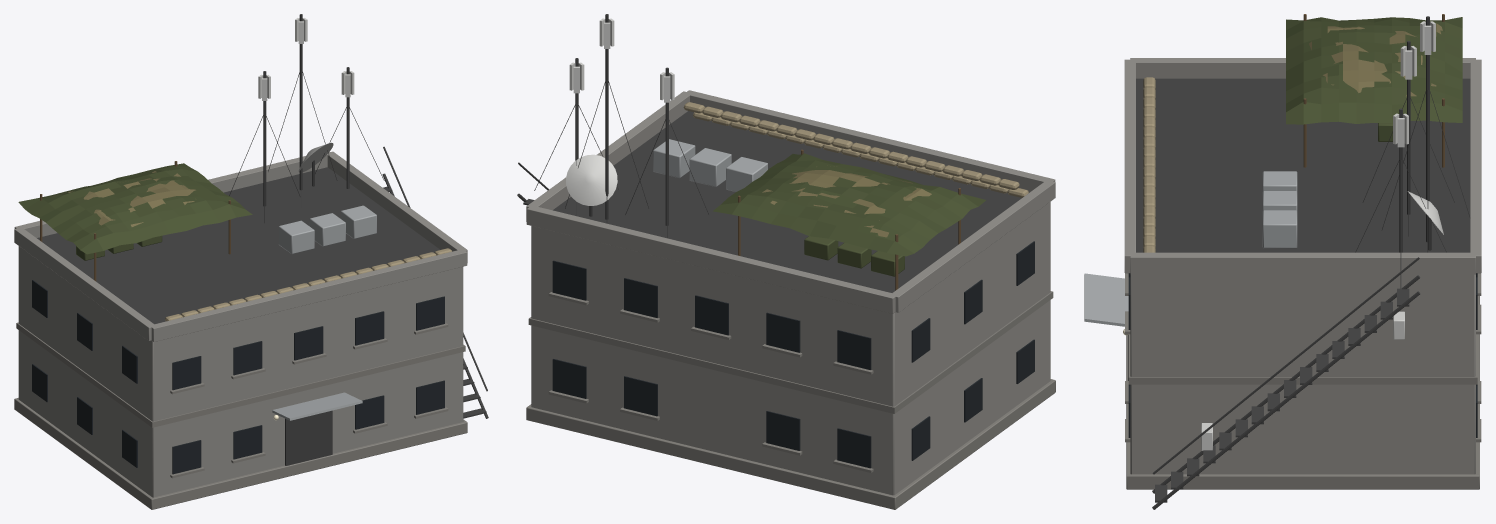
The model's file is HQ_Building.fbx.
The picture shows the model from 3 angles, left to right: view 1: azimuth 30°, elevation 25°; view 2: azimuth 150°, elevation 25°; view 3: azimuth 270°, elevation 25°; orthographic projection. The views are drawn at different scales.
Visible parts, largest first — view 1: HQ_Building_Mesh; view 2: HQ_Building_Mesh; view 3: HQ_Building_Mesh.
Boxes of the visible parts, x1,y1,x2,y2 form: HQ_Building_Mesh: (14,14,488,509); HQ_Building_Mesh: (517,14,1055,509); HQ_Building_Mesh: (1084,14,1481,509).
Bounding box in the file's own units: 13.49 × 12.74 × 10.35.
